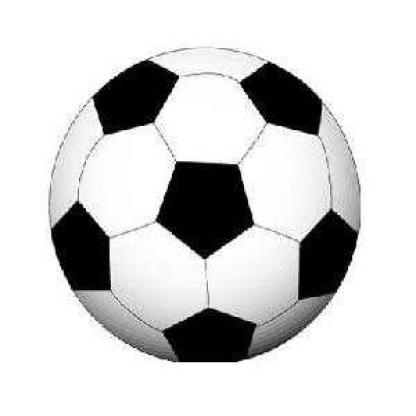ball: (49, 47, 360, 364)
